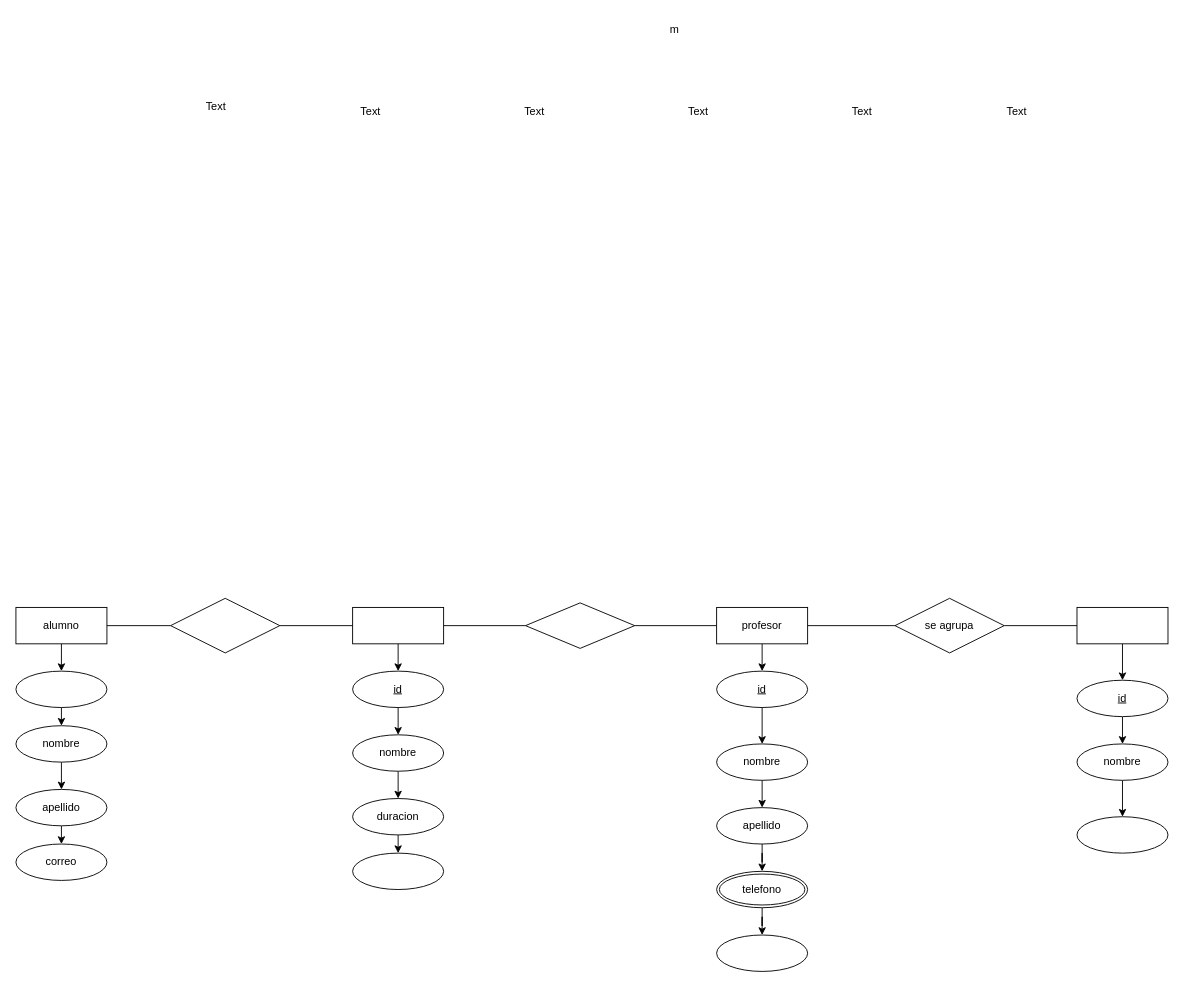
The diagram is 1184 pixels wide and 987 high, and some of its shapes have lost their labels. The box of each missing label's shape, as (x1, y1, x2, y2) in pixels:
asignatura: (352, 607, 444, 644)
departamento: (1076, 607, 1168, 644)
dni: (15, 670, 107, 708)
horas_total: (352, 852, 444, 890)
presupuesto: (1076, 816, 1168, 853)
se imparte: (525, 602, 635, 648)
se matricula: (170, 597, 280, 653)
sueldo: (716, 934, 808, 971)
